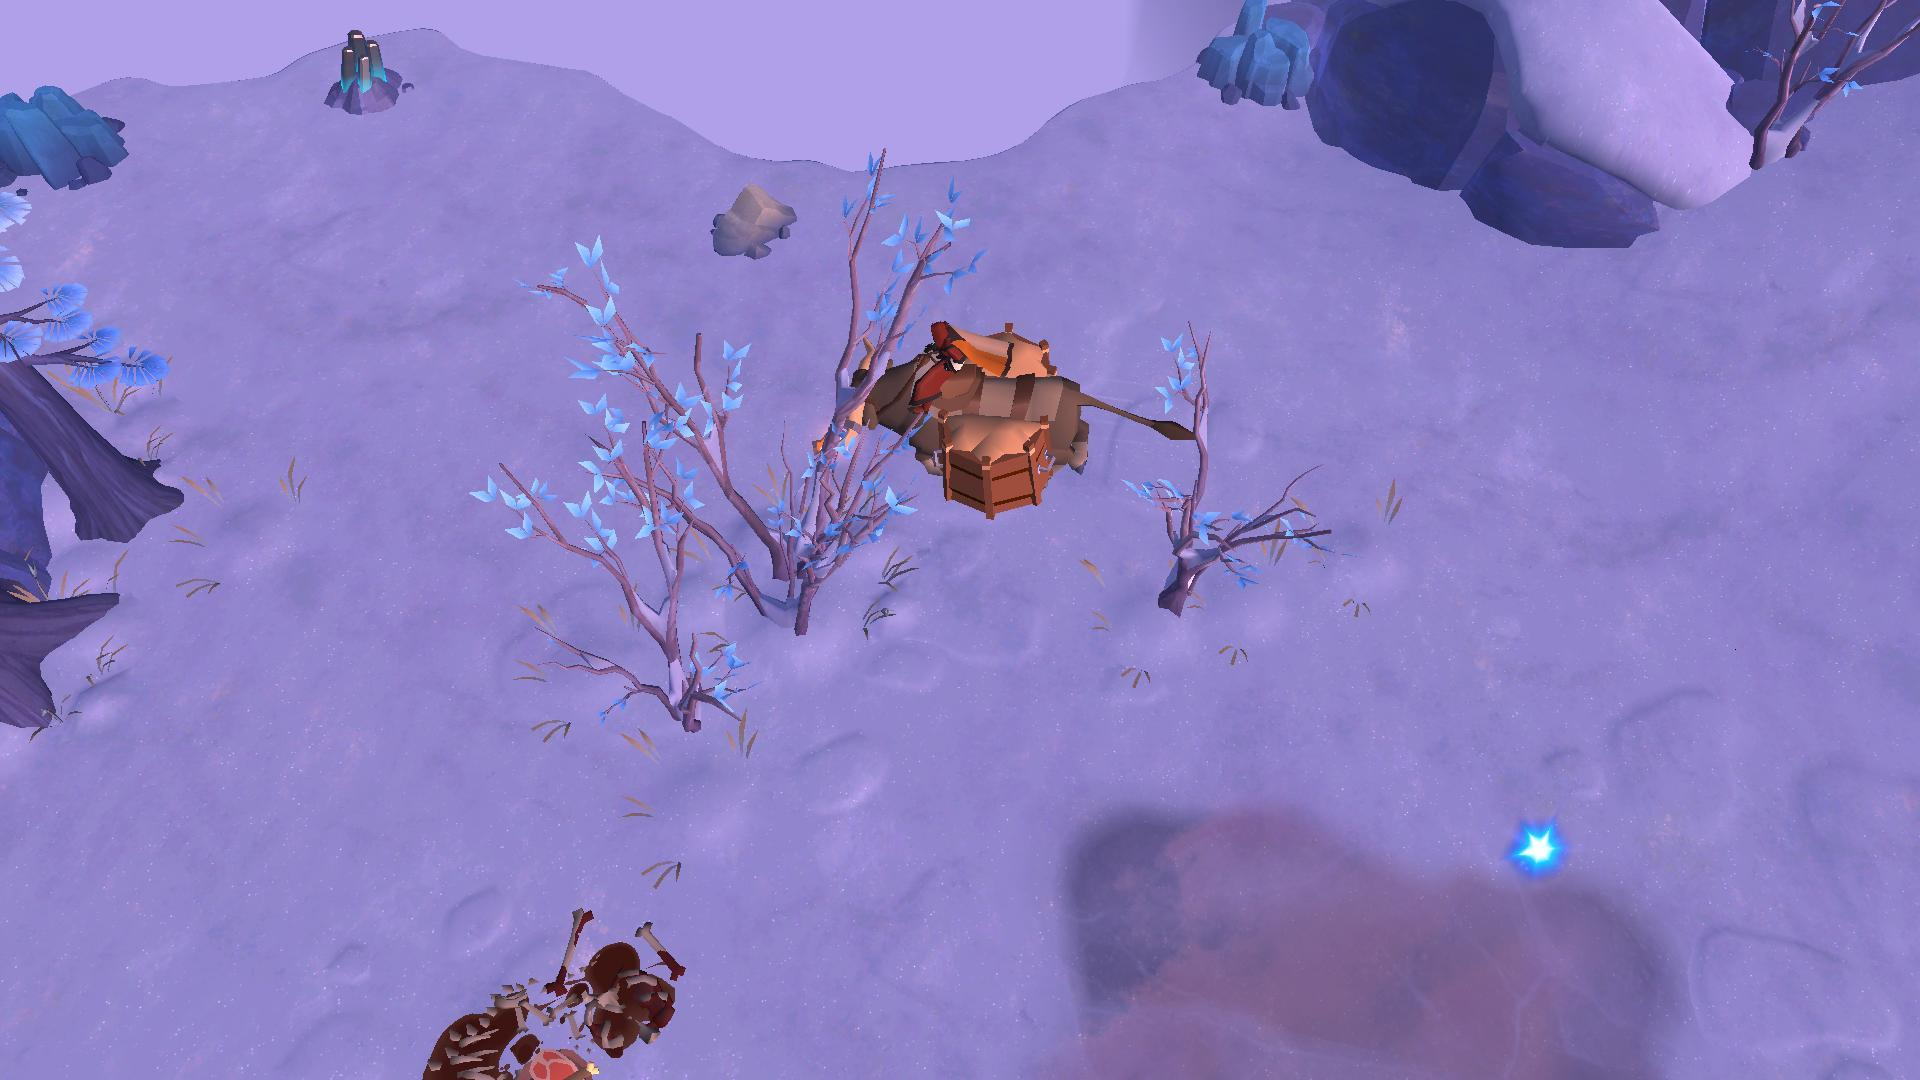ore_t4: (335, 28, 390, 112)
rock_t4: (1176, 0, 1340, 108), (0, 76, 135, 195)
